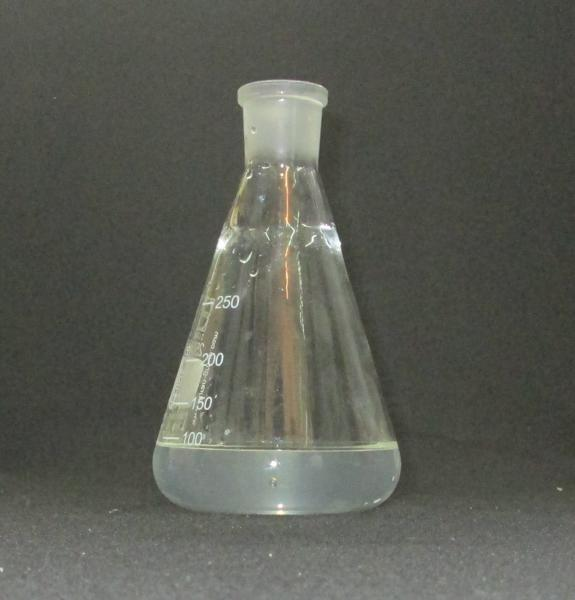Titrarion: (152, 64, 403, 510)
